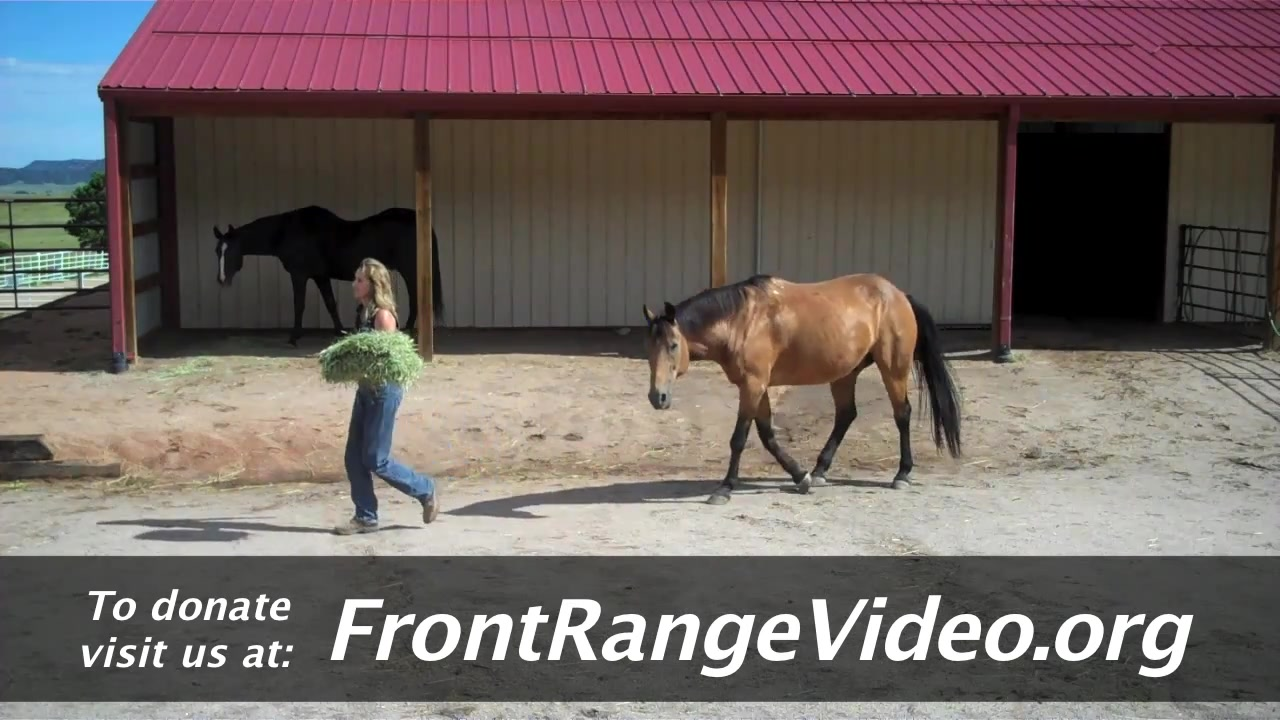horse: (641, 271, 965, 507), (210, 204, 447, 344)
